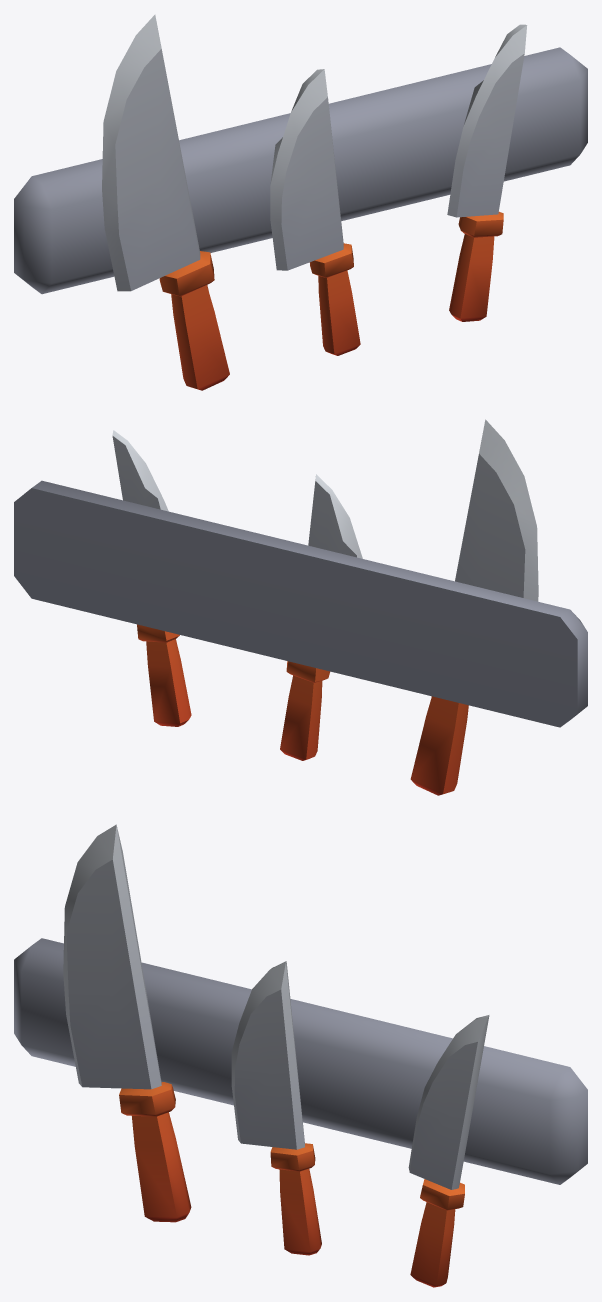
File: Wall Knife Rack.glb
3 views of the same model, one above another, from view 1: azimuth 30°, elevation 25°; view 2: azimuth 150°, elevation 25°; view 3: azimuth 330°, elevation 25° (orthographic).
Parts seen in each view (by area): view 1: wall_knife_rack; view 2: wall_knife_rack; view 3: wall_knife_rack.
Part boxes in pixels (<box>): wall_knife_rack: <box>14,14,587,390</box>; wall_knife_rack: <box>14,419,587,795</box>; wall_knife_rack: <box>14,824,587,1287</box>.
Size of the model in its own units: 1.6 by 1.04 by 0.1695.
1 material, 1 textured.
